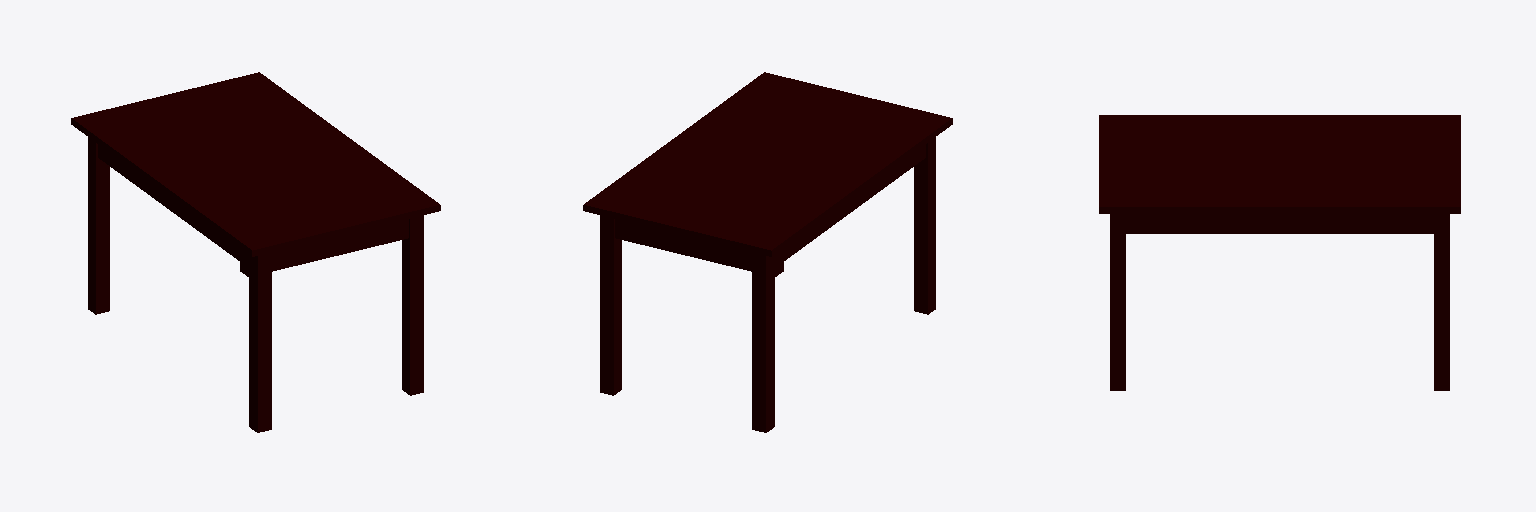
Rendered from mesacafe.obj.
3 views of the same model, side by side, from view 1: azimuth 30°, elevation 25°; view 2: azimuth 150°, elevation 25°; view 3: azimuth 270°, elevation 25° (orthographic).
Parts seen in each view (by area): view 1: deskWorn_OBJ:deskWorn; view 2: deskWorn_OBJ:deskWorn; view 3: deskWorn_OBJ:deskWorn.
Part boxes in pixels (bbox=[...]): deskWorn_OBJ:deskWorn: bbox=[71, 72, 440, 432]; deskWorn_OBJ:deskWorn: bbox=[583, 72, 952, 432]; deskWorn_OBJ:deskWorn: bbox=[1099, 115, 1460, 390].
Size of the model in its own units: 29.53 by 28.4 by 49.21.